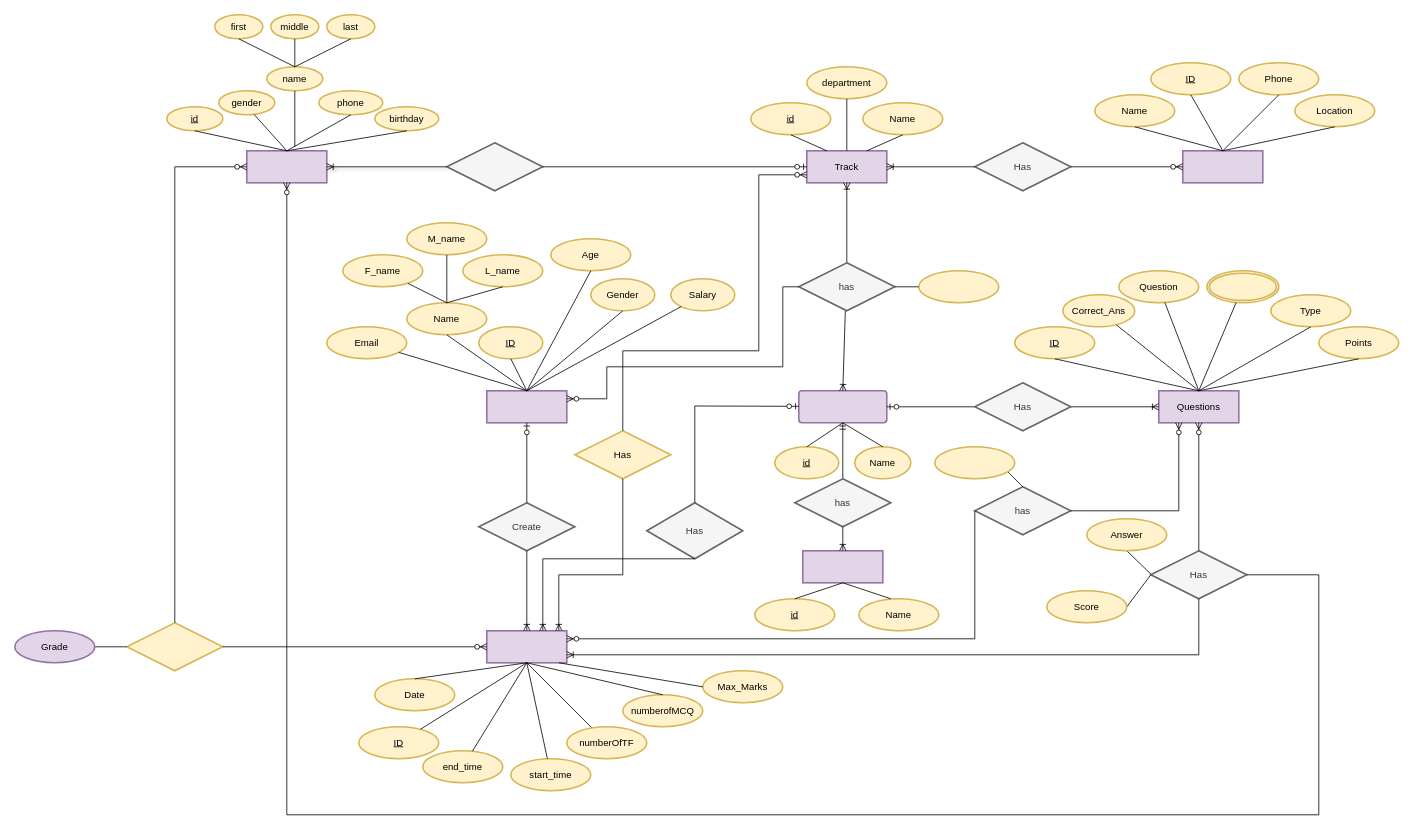
The diagram is 1413 pixels wide and 835 high, and some of its shapes have lost their labels. The centre of each missing label's shape, as x and y in pixels:
"Branch" belongs at pixel 1222 166.
"Choices" belongs at pixel 1242 286.
"contain" belongs at pixel 494 166.
"Course" belongs at pixel 842 406.
"Course_Date" belongs at pixel 958 286.
"Exam" belongs at pixel 526 646.
"Instructor" belongs at pixel 526 406.
"Points_Edit" belongs at pixel 974 462.
"Student" belongs at pixel 286 166.
"Take" belongs at pixel 174 646.
"Topic" belongs at pixel 842 566.
